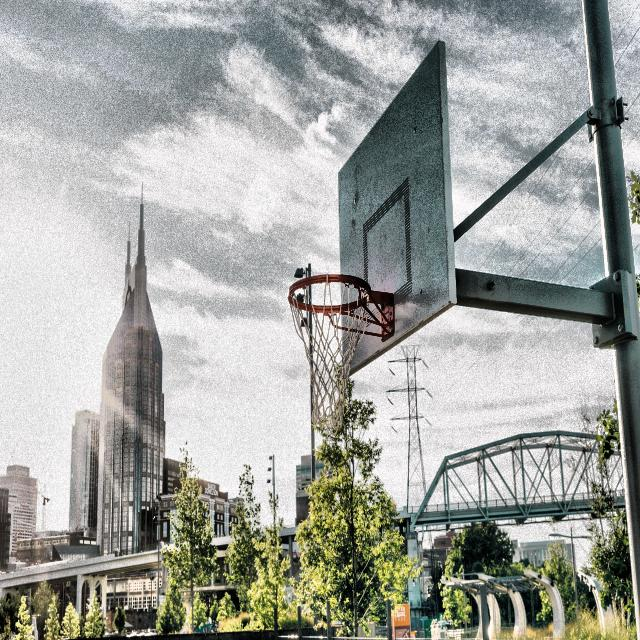rim: (288, 274, 373, 434)
